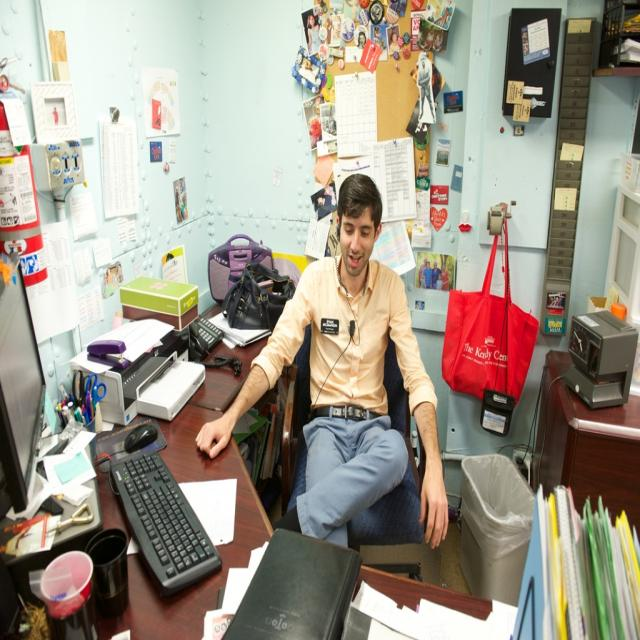desk: (100, 306, 490, 638)
keyboard: (108, 449, 222, 594)
mouse: (124, 419, 160, 452)
person: (195, 172, 449, 556)
tv: (0, 255, 47, 515)
